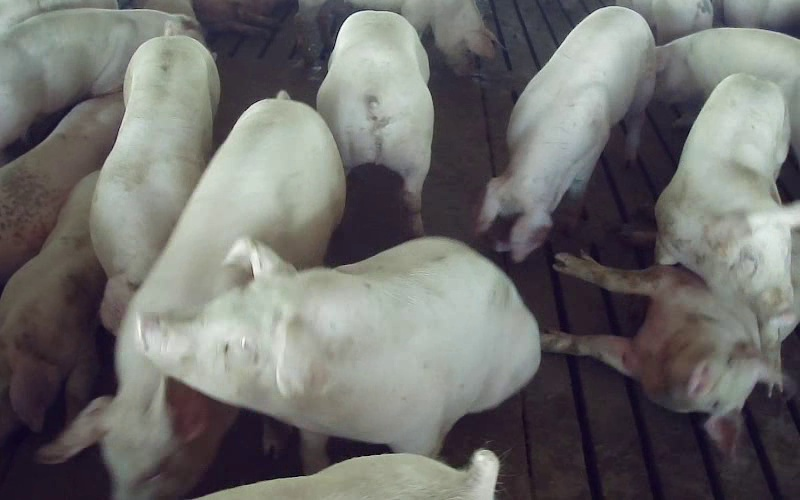pig: (139, 238, 539, 455), (478, 7, 655, 261), (91, 36, 219, 333), (656, 74, 799, 325), (0, 172, 105, 442), (0, 8, 201, 149), (317, 11, 433, 232), (0, 92, 124, 282), (654, 28, 799, 161)
